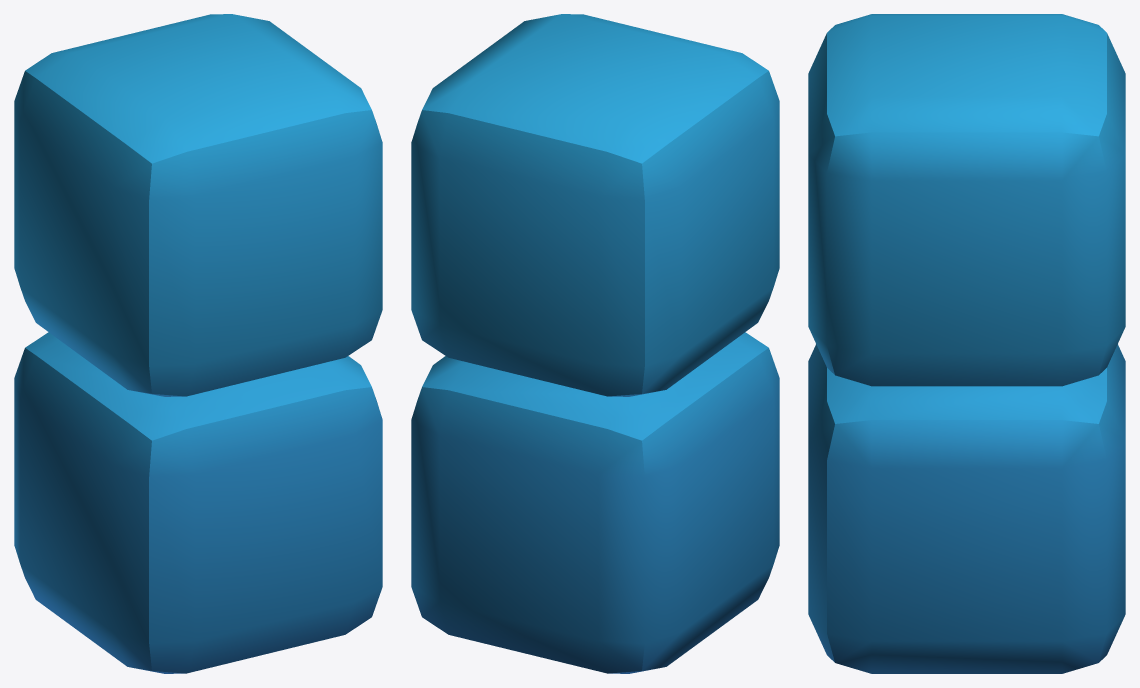
File: barrier_1x1x2_blue.glb
3 views of the same model, side by side, from view 1: azimuth 30°, elevation 25°; view 2: azimuth 150°, elevation 25°; view 3: azimuth 270°, elevation 25° (orthographic). The views are drawn at different scales.
Parts seen in each view (by area): view 1: barrier_1x1x2_blue; view 2: barrier_1x1x2_blue; view 3: barrier_1x1x2_blue.
Boxes of the visible parts, bbox=[...] form: barrier_1x1x2_blue: bbox=[14, 14, 382, 673]; barrier_1x1x2_blue: bbox=[411, 14, 779, 673]; barrier_1x1x2_blue: bbox=[808, 14, 1125, 673].
Size of the model in its own units: 1 by 2 by 1.
1 material, 1 textured.
